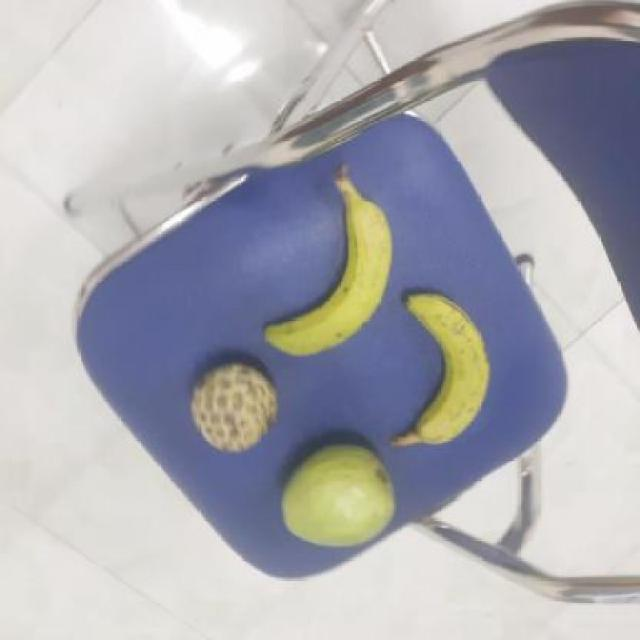banana: (265, 206, 393, 357), (388, 299, 489, 446)
guava: (276, 439, 398, 548)
sugar apple: (185, 362, 277, 451)
